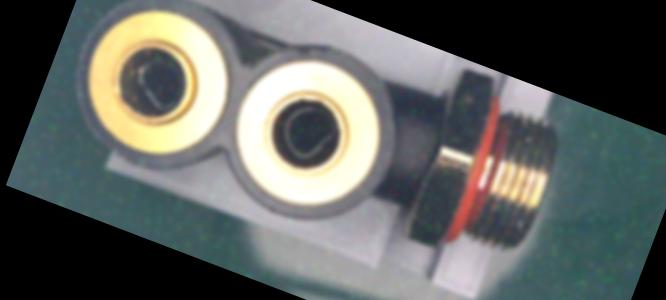bump: (287, 33, 335, 64), (98, 138, 141, 165)
off-centered: (123, 46, 198, 116), (270, 98, 344, 168)
white mark: (398, 153, 424, 178)
